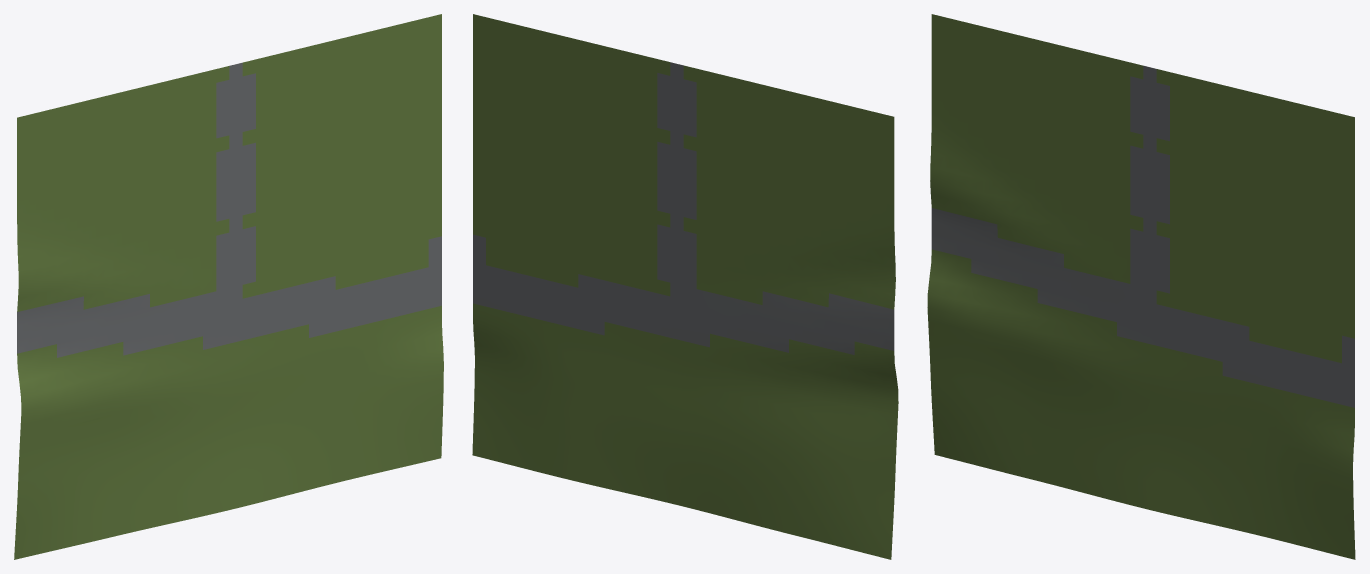
The model's file is island_terrain_20_02.obj.
3 views of the same model, side by side, from view 1: azimuth 30°, elevation 25°; view 2: azimuth 150°, elevation 25°; view 3: azimuth 330°, elevation 25° (orthographic).
Parts seen in each view (by area): view 1: island_terrain_20_02; view 2: island_terrain_20_02; view 3: island_terrain_20_02.
Boxes of the visible parts, x1,y1,x2,y2 form: island_terrain_20_02: (14, 14, 443, 559); island_terrain_20_02: (472, 14, 898, 559); island_terrain_20_02: (927, 14, 1355, 559).
Bounding box in the file's own units: 256 × 256 × 7.55.
